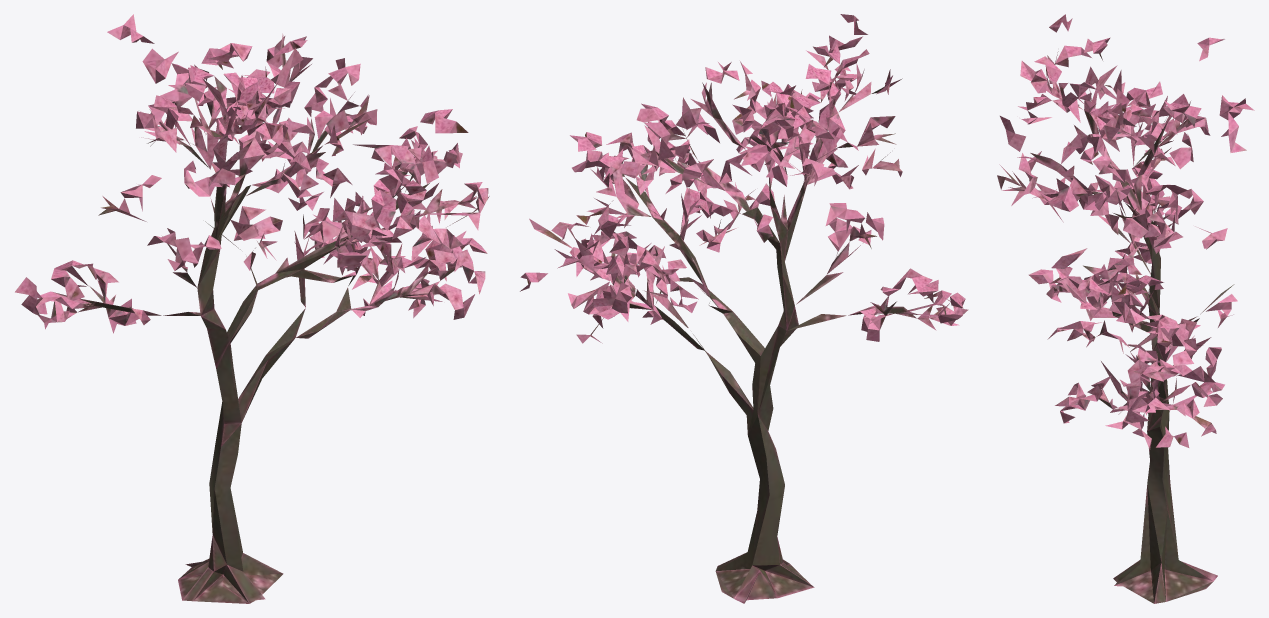
File: prop_tree_cherry.glb
3 views of the same model, side by side, from view 1: azimuth 30°, elevation 25°; view 2: azimuth 150°, elevation 25°; view 3: azimuth 270°, elevation 25° (orthographic). The views are drawn at different scales.
Parts seen in each view (by area): view 1: Mesh_0; view 2: Mesh_0; view 3: Mesh_0.
Boxes of the visible parts, x1=… form: Mesh_0: x1=15, y1=14, x2=489, y2=603; Mesh_0: x1=520, y1=14, x2=968, y2=603; Mesh_0: x1=997, y1=14, x2=1254, y2=603.
Bounding box in the file's own units: 1.52 × 1.81 × 0.7753.
Materials: 1 (1 with a texture image).
